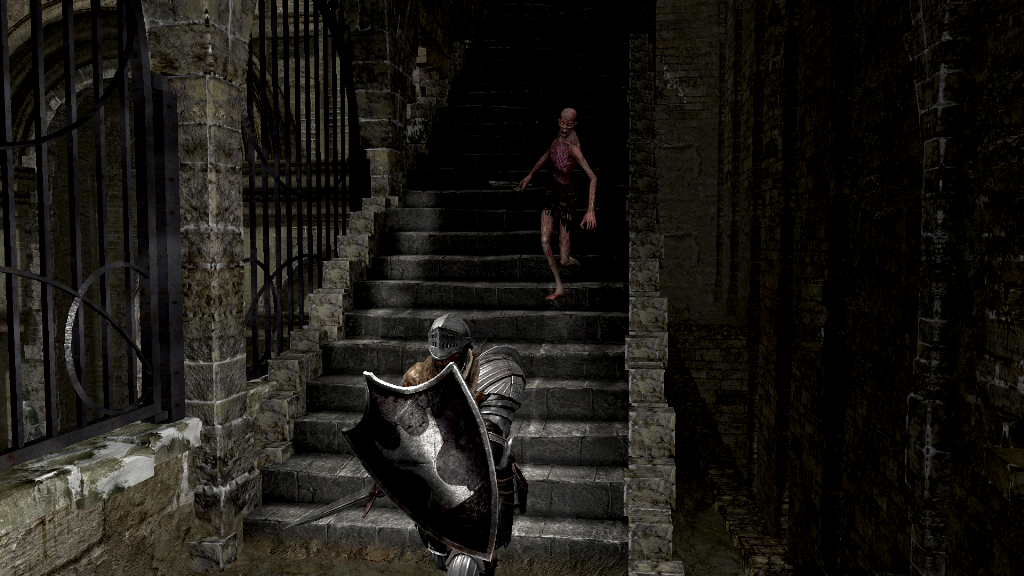hollow: (513, 106, 598, 301)
player: (280, 311, 536, 576)
